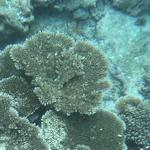alive: (1, 1, 148, 146)
